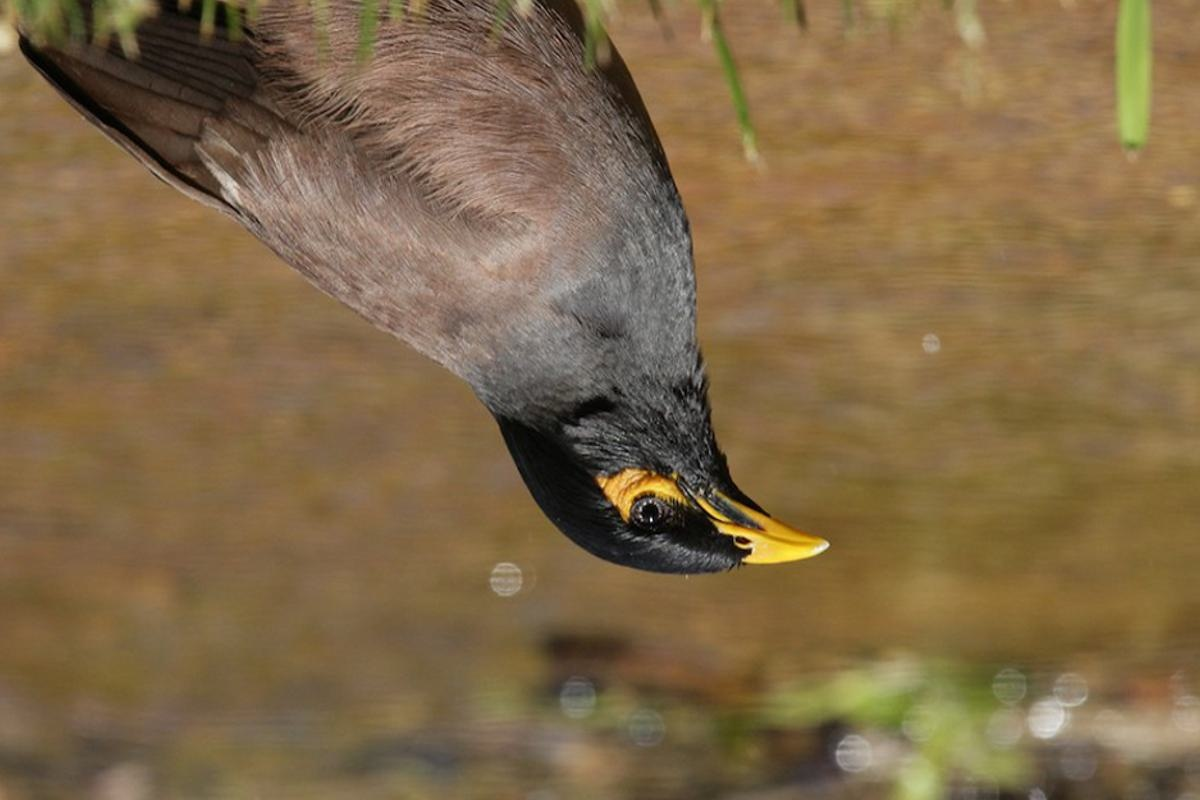myna: (167, 1, 864, 596)
